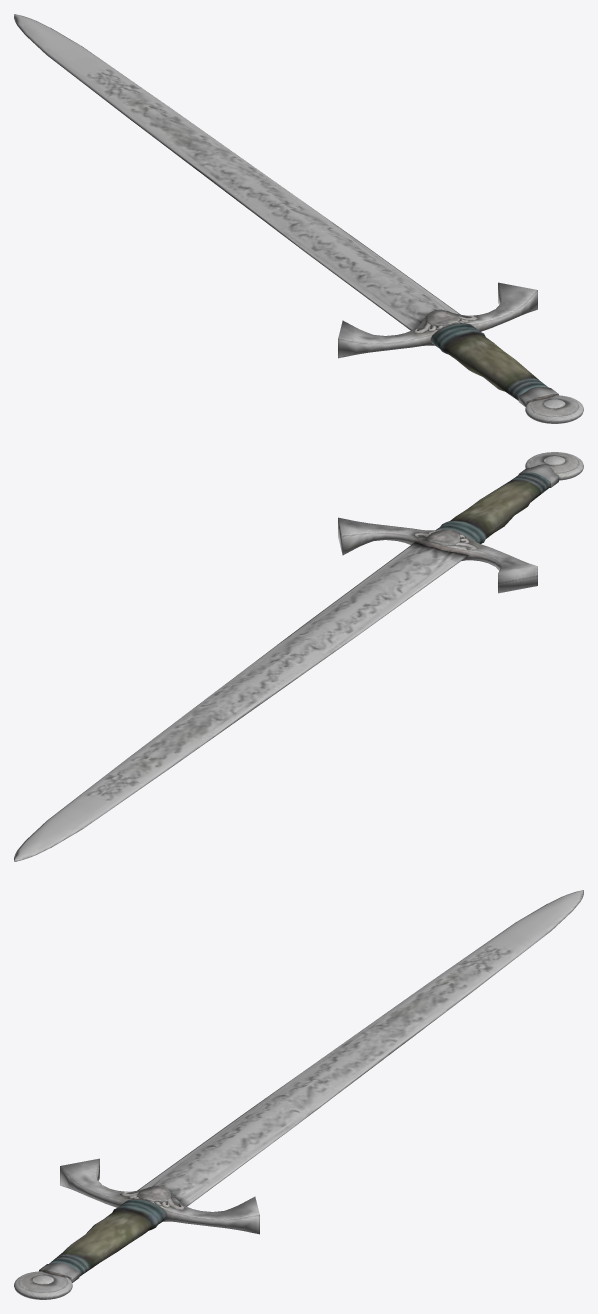
File: arming_sword_gothic_fanart.glb
3 views of the same model, one above another, from view 1: azimuth 30°, elevation 25°; view 2: azimuth 150°, elevation 25°; view 3: azimuth 330°, elevation 25° (orthographic).
Visible parts, largest first — view 1: ArmingSwordLP_ArmingSword_0; view 2: ArmingSwordLP_ArmingSword_0; view 3: ArmingSwordLP_ArmingSword_0.
Part boxes in pixels (x1,y1,x2,y2): ArmingSwordLP_ArmingSword_0: (14,14,583,423); ArmingSwordLP_ArmingSword_0: (14,452,583,861); ArmingSwordLP_ArmingSword_0: (14,890,583,1299).
Bounding box in the file's own units: 15.57 × 1.79 × 74.91.
Materials: 1 (1 with a texture image).
